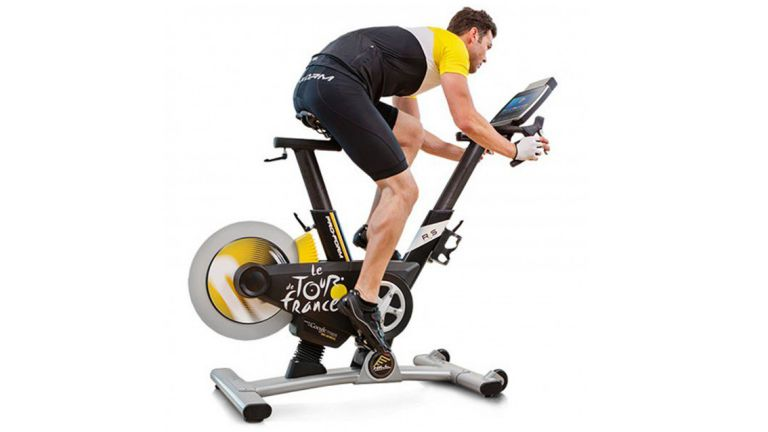gym_bike: (165, 80, 568, 409)
